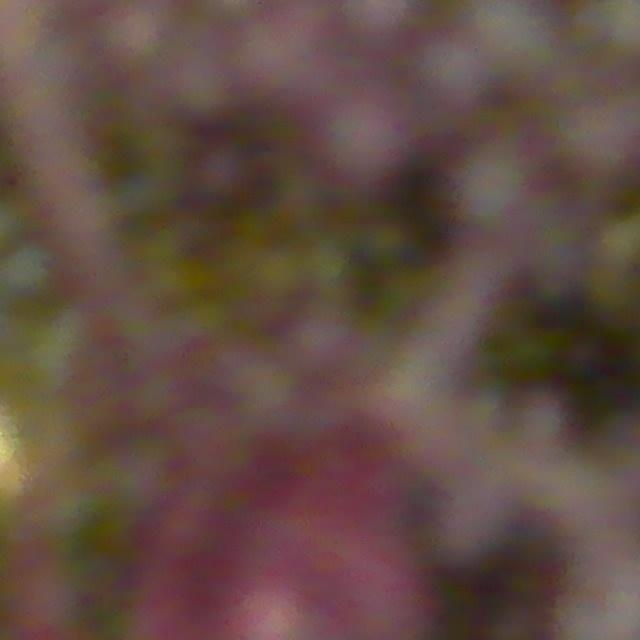SeaGrape: (241, 10, 345, 114), (316, 76, 393, 187)
